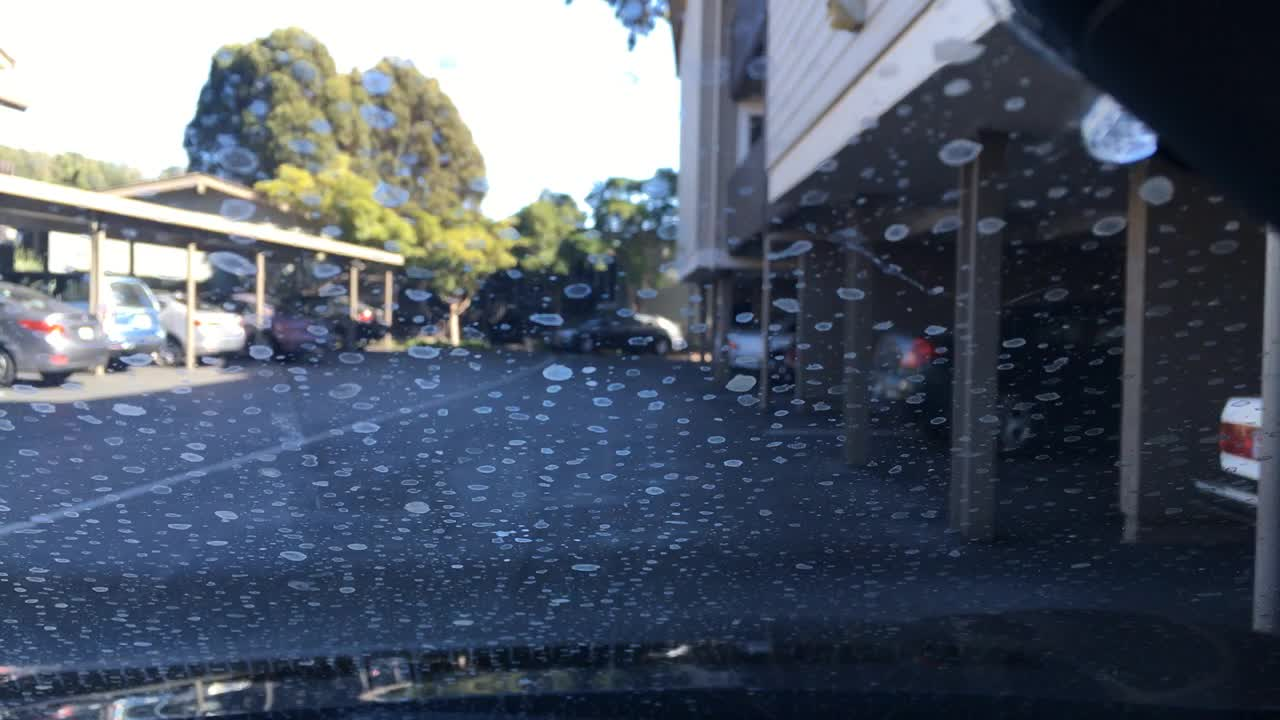car: (872, 241, 1125, 467), (28, 270, 166, 372), (0, 279, 112, 388), (198, 285, 338, 362), (1189, 394, 1259, 529), (148, 285, 247, 365), (548, 303, 687, 355), (278, 290, 388, 353), (724, 308, 793, 371), (764, 310, 798, 385), (415, 312, 483, 343), (389, 298, 440, 339)
